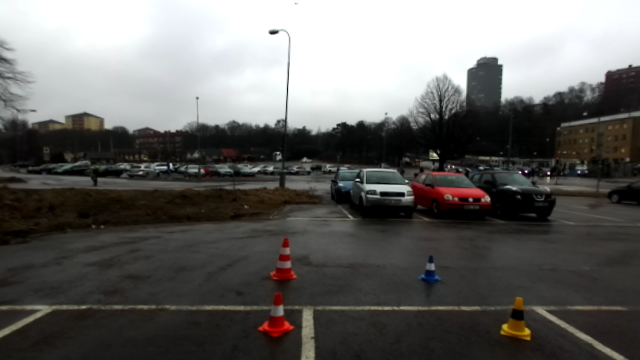blue: (418, 255, 442, 286)
orange: (259, 290, 292, 338)
orange2: (269, 235, 297, 280)
yellow: (498, 294, 533, 342)
